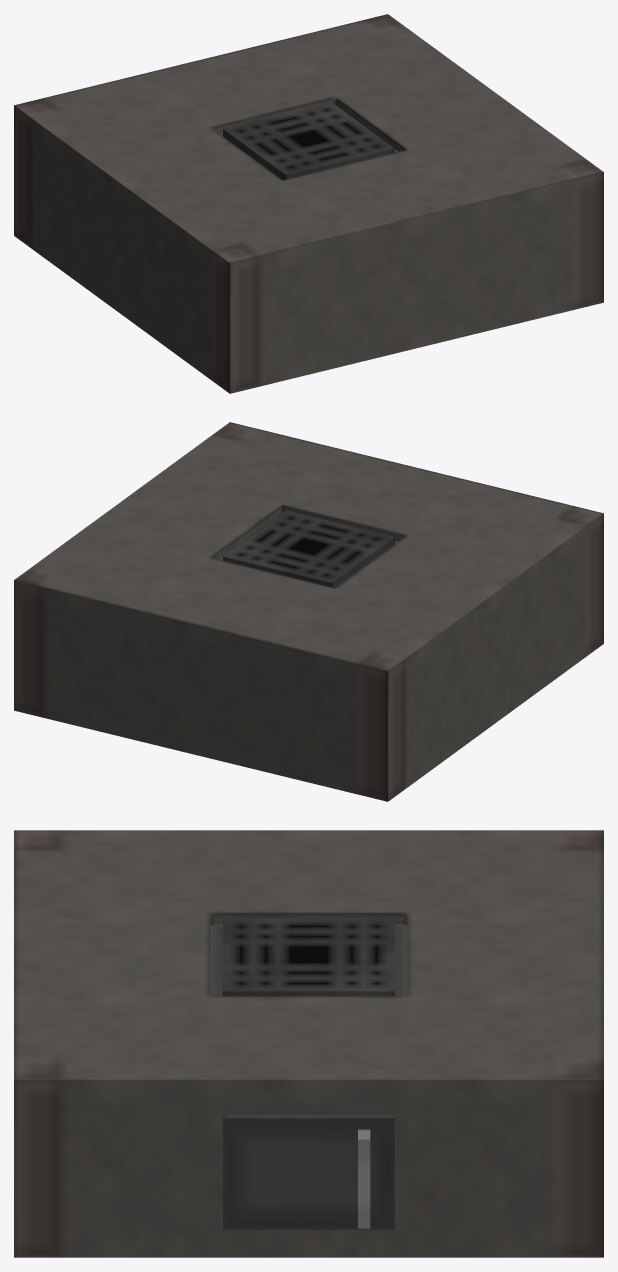
The model's file is ashpit.obj.
3 views of the same model, one above another, from view 1: azimuth 30°, elevation 25°; view 2: azimuth 150°, elevation 25°; view 3: azimuth 270°, elevation 25° (orthographic). The views are drawn at different scales.
Visible parts, largest first — view 1: Main; view 2: Main; view 3: Main, Door.
Boxes of the visible parts, x1,y1,x2,y2 form: Main: [14, 14, 603, 393]; Main: [14, 422, 603, 801]; Main: [14, 830, 603, 1257]; Door: [223, 1113, 394, 1229].
Bounding box in the file's own units: 3.19 × 1 × 3.
